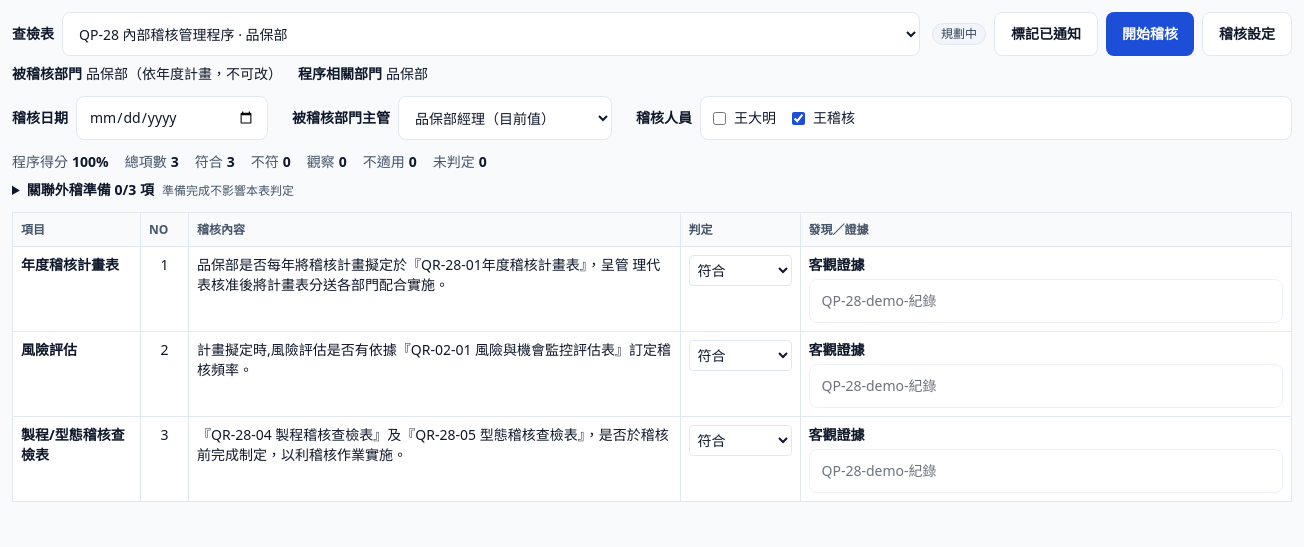
Test case: ProcedureAuditPanel › prevents starting an audit without an implementation date
Expected: the text "規劃中" is shown, [932,23,986,45]
Click the button "開始稽核": point(1150, 34) [1106,12,1194,56]
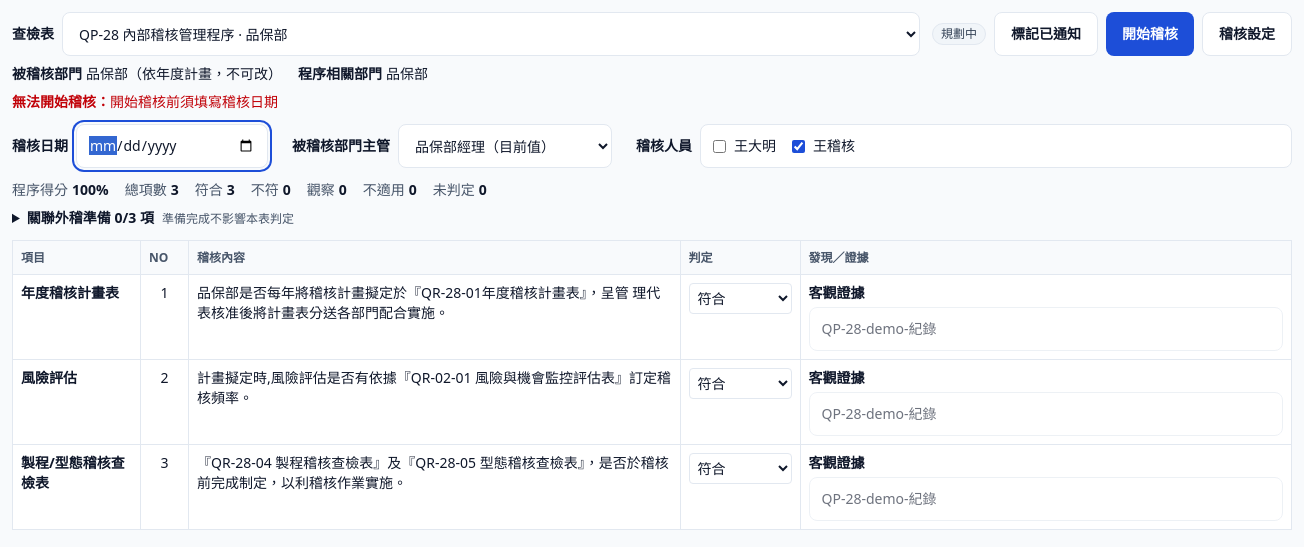
Expected: the text "規劃中" is shown, [932,23,986,45]
Expected: the message shows "開始稽核前須填寫稽核日期", [110,92,278,111]
